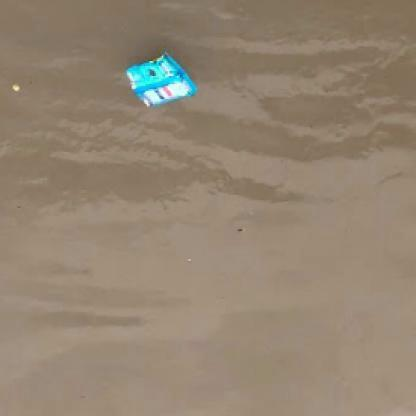Trash: (121, 48, 204, 112)
